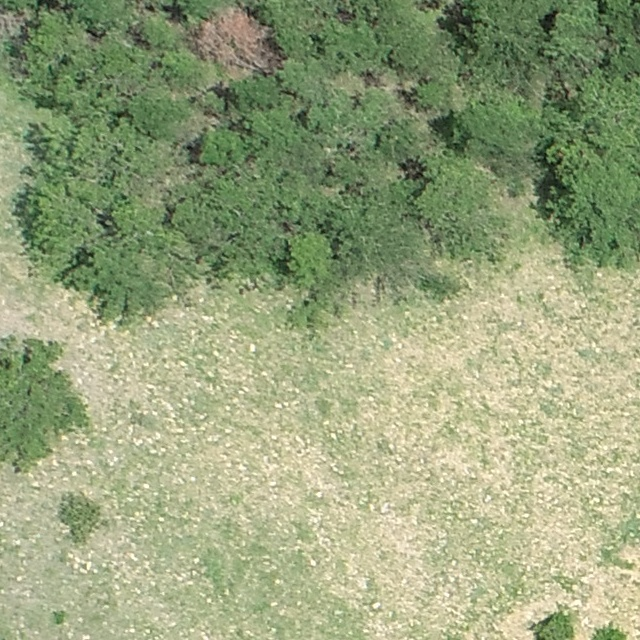unhealthy: (191, 2, 285, 76), (0, 5, 30, 40)
